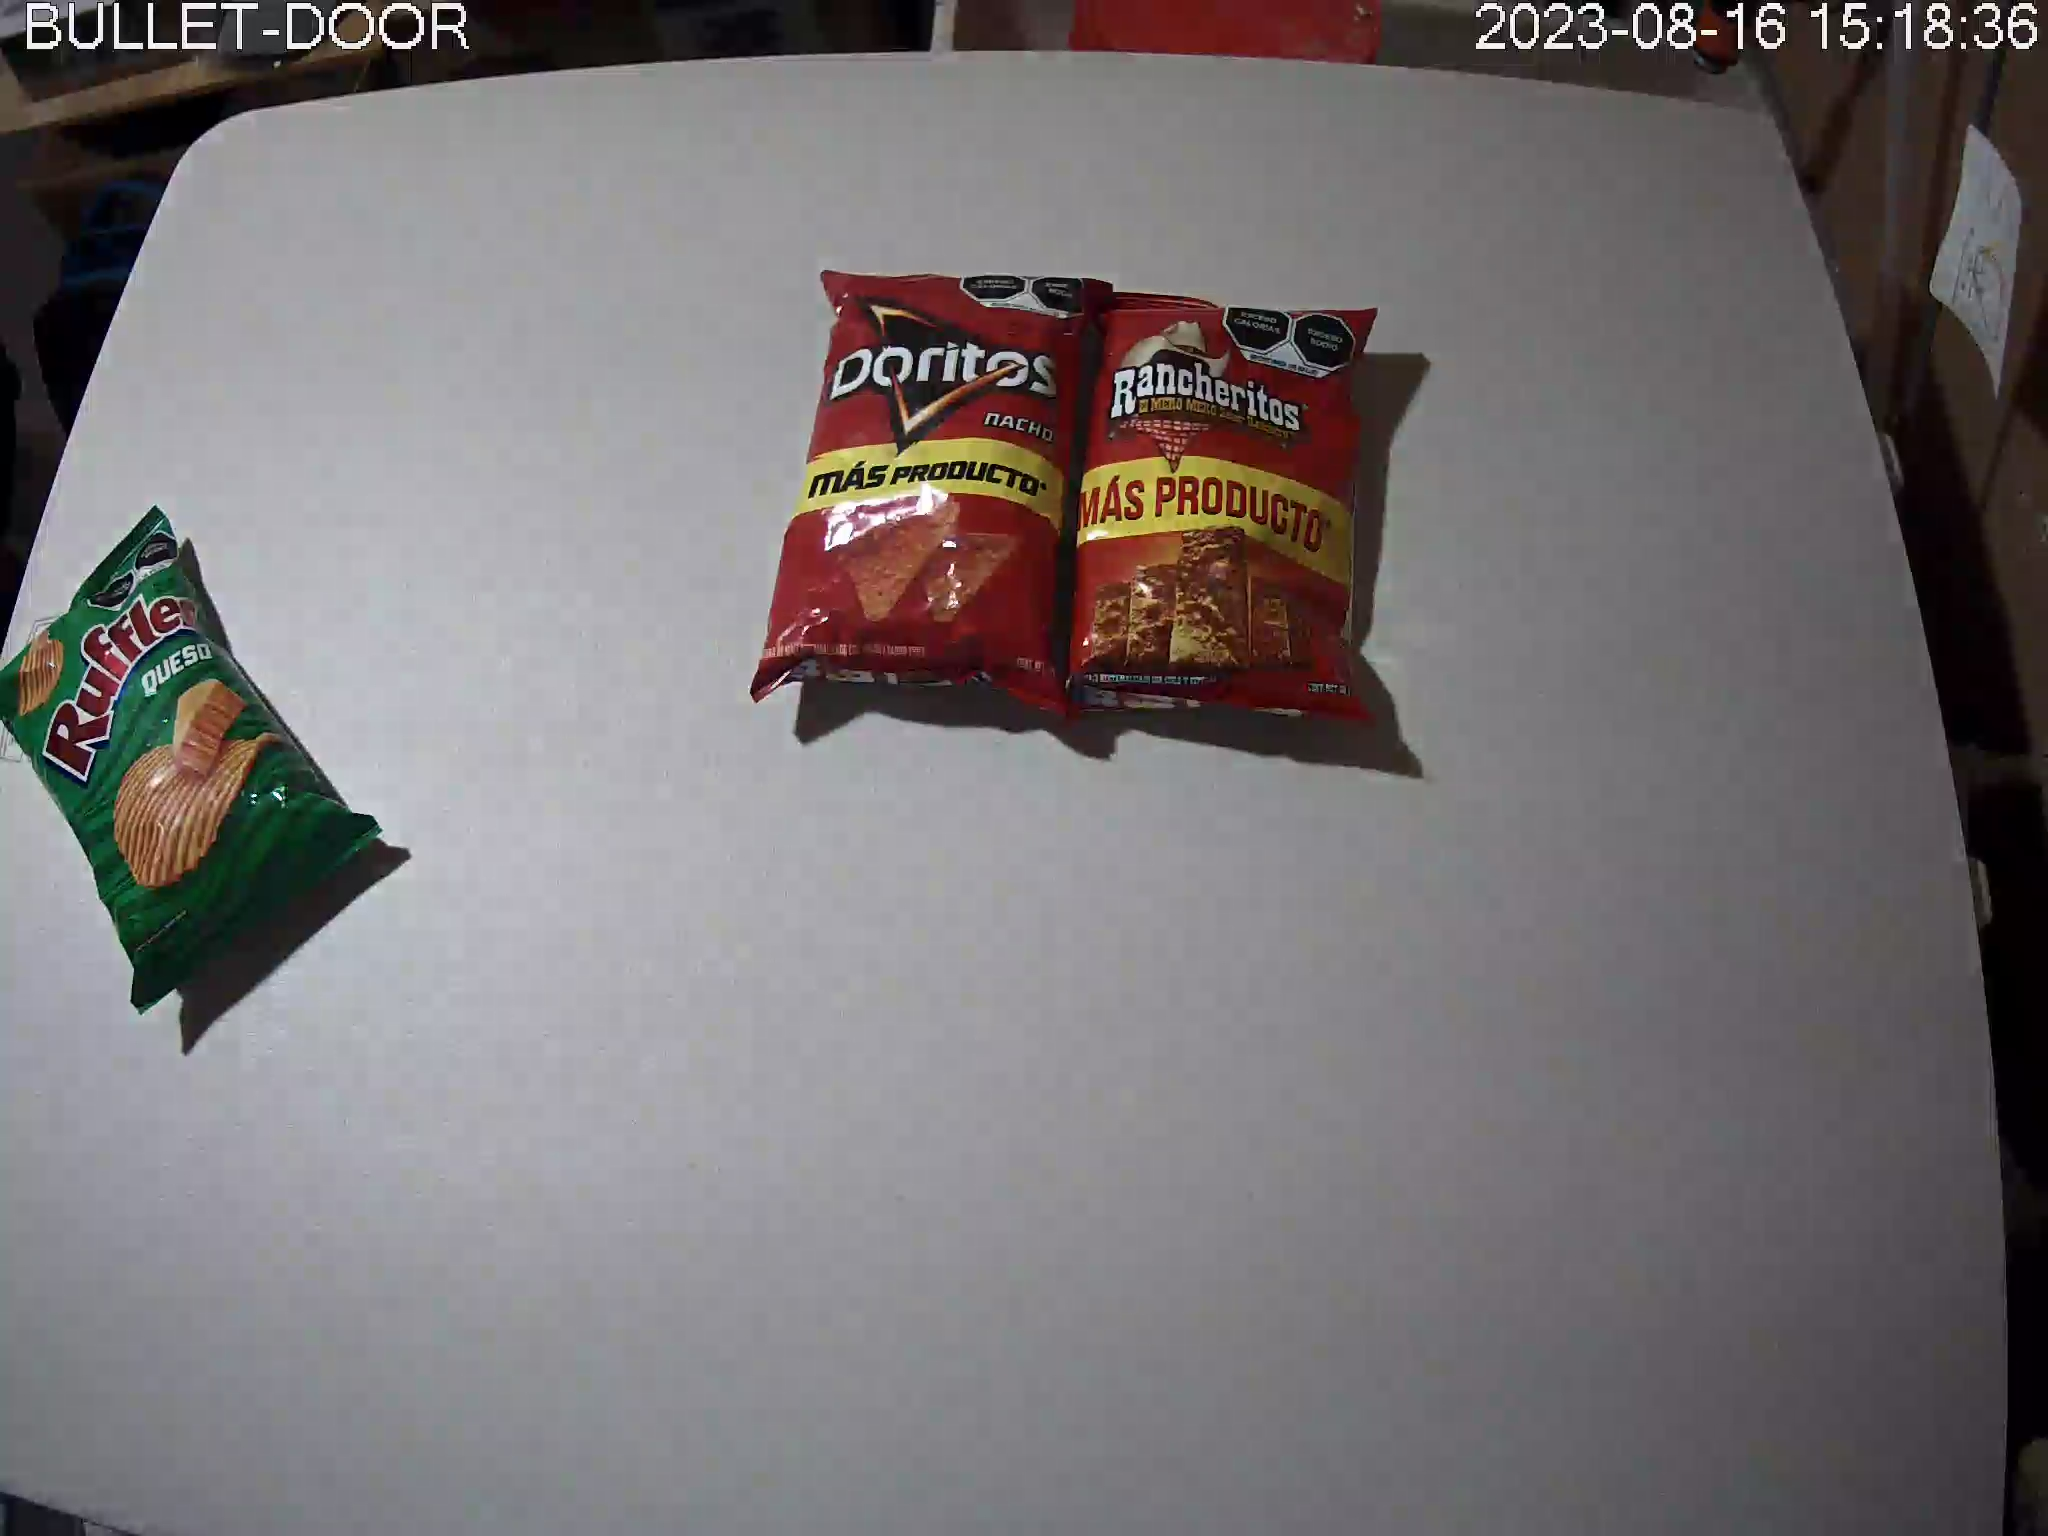DoritosN_61_F: (748, 273, 1116, 723)
Rancheritos_58_F: (1050, 290, 1380, 731)
RufflesQ_48_F: (2, 507, 384, 1018)
